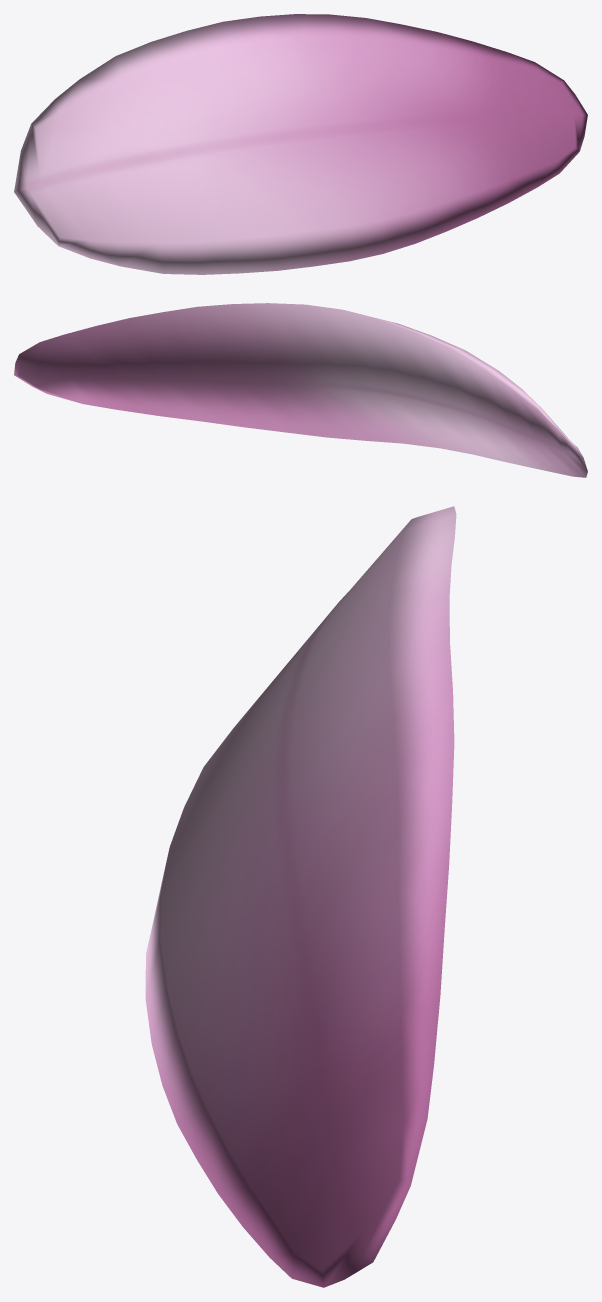
Rendered from petal3.obj.
3 views of the same model, one above another, from view 1: azimuth 30°, elevation 25°; view 2: azimuth 150°, elevation 25°; view 3: azimuth 270°, elevation 25° (orthographic). The views are drawn at different scales.
Parts seen in each view (by area): view 1: Object027; view 2: Object027; view 3: Object027.
Part boxes in pixels (<box>): Object027: <box>14,14,587,274</box>; Object027: <box>14,303,587,477</box>; Object027: <box>145,506,456,1287</box>.
Bounding box in the file's own units: 115 × 39.03 × 27.14.
